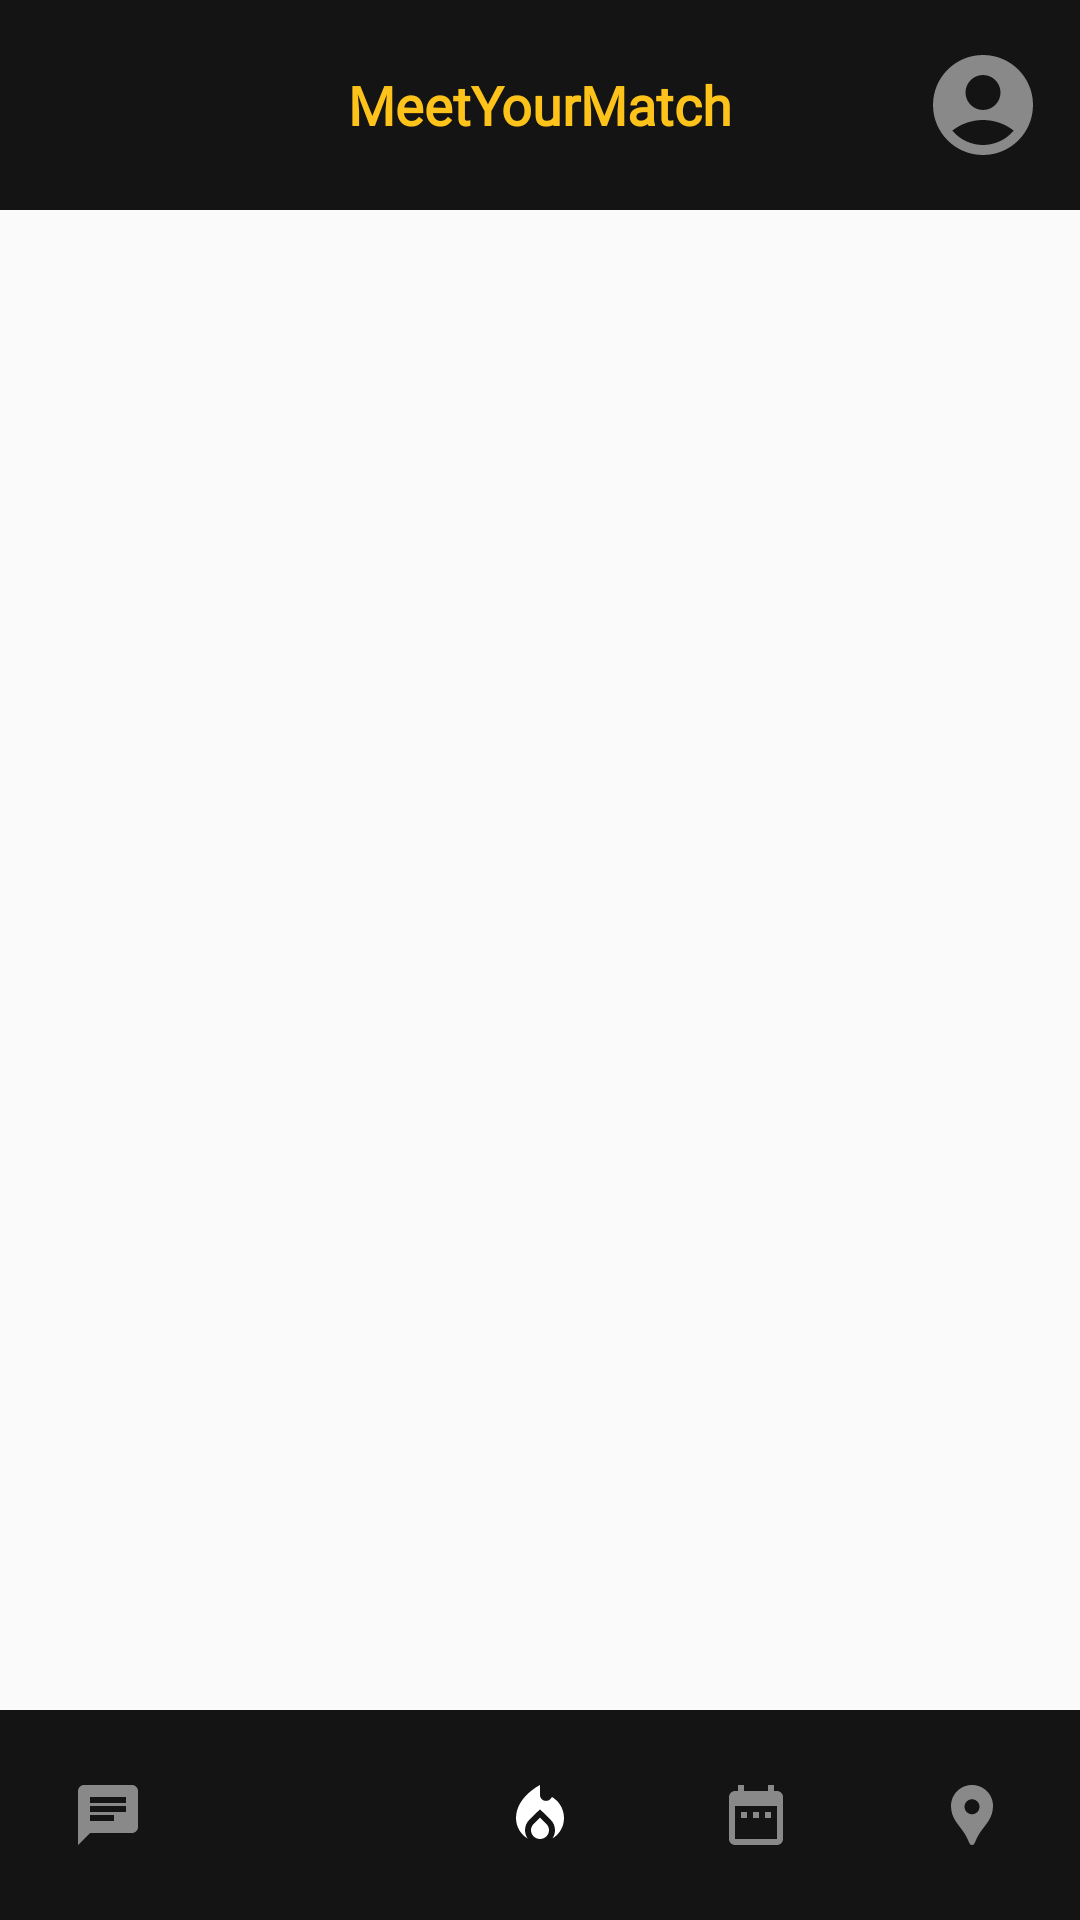

Screen size 1080px×1920px. Icon name, then its center in pixels as point (x, y):
chat: point (108, 1815)
location pin: point (972, 1815)
range: point (756, 1815)
